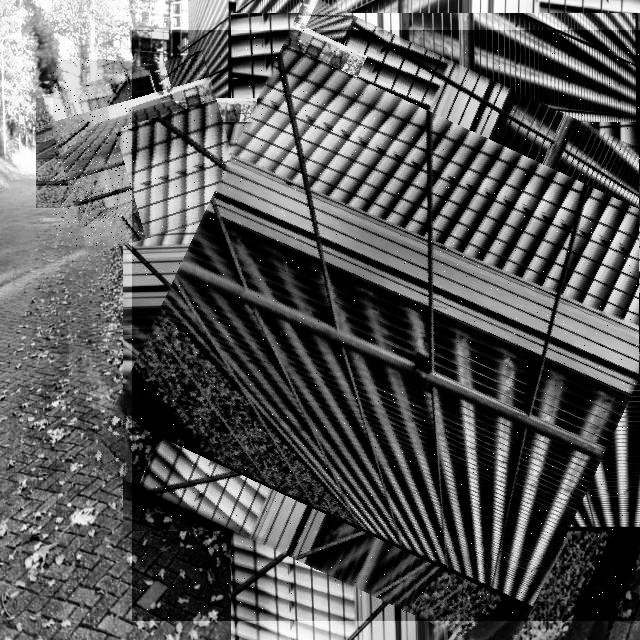fences: (132, 30, 640, 621), (53, 60, 239, 246)
